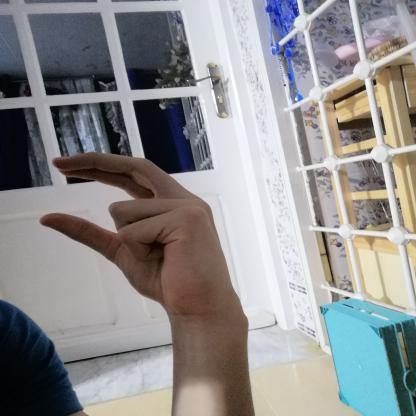DHELL: (30, 144, 241, 310)
